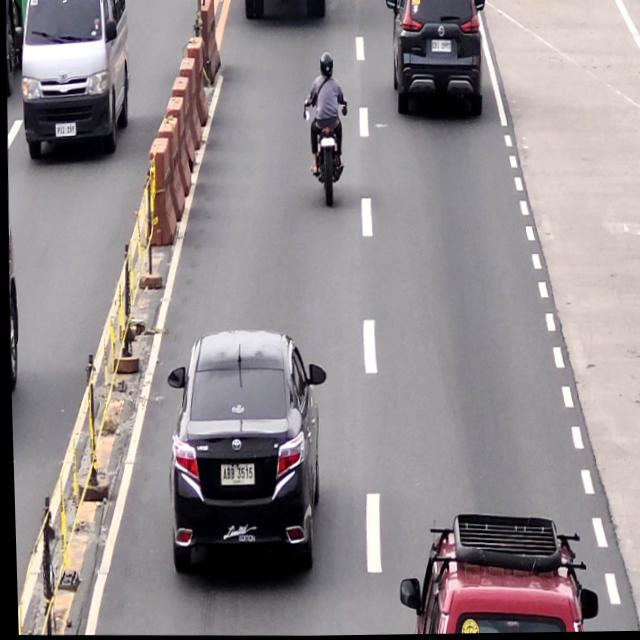Car: (158, 325, 328, 580), (393, 513, 594, 636), (382, 0, 489, 128)
License-Plate: (217, 463, 252, 485), (431, 39, 452, 54), (319, 137, 335, 149)
Motorcycle: (301, 95, 349, 207)
